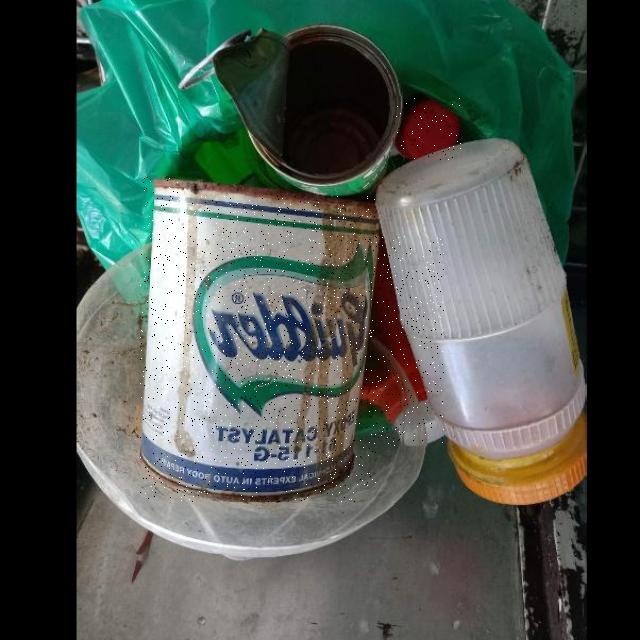metal: (141, 177, 380, 502), (179, 24, 402, 195)
plastic: (376, 136, 586, 504), (362, 236, 444, 445), (395, 96, 461, 159)
